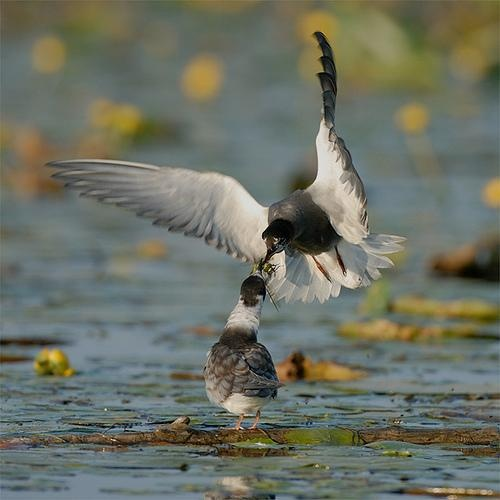bird: (36, 30, 419, 303), (190, 279, 294, 436)
